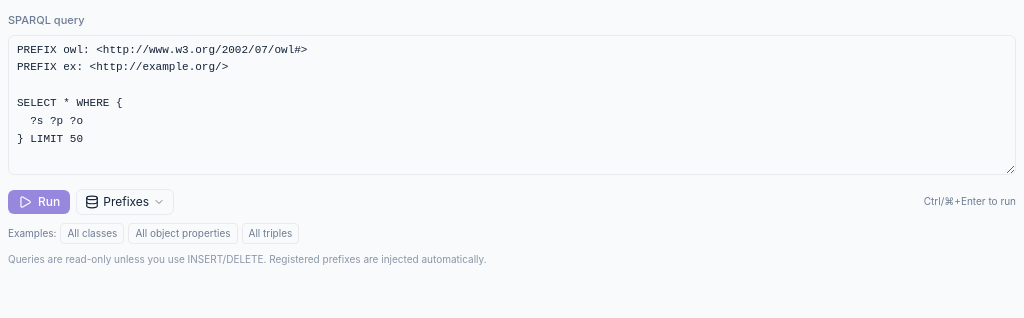
Test: SparqlPanel › renders a true/false badge for ASK results
The width and height of the screenshot is (1024, 318).
Click the button with aria-label "Run SPARQL query" at (39, 202), box [8,190,70,214]
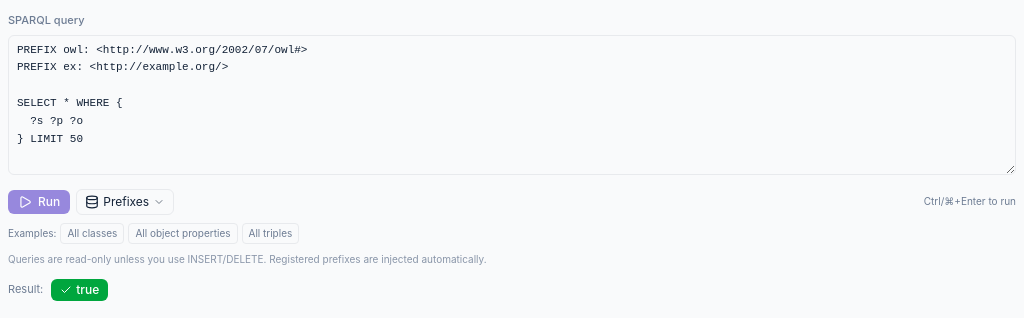
Now the text "true" is shown, box [51,278,108,300]
